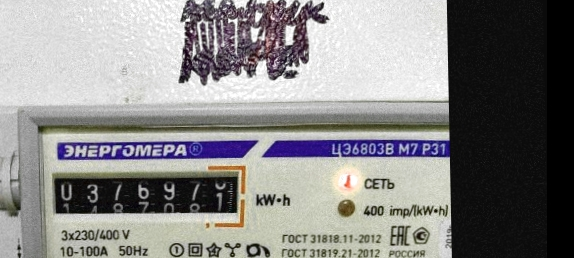0: (57, 179, 73, 201)
1: (213, 190, 225, 212)
3: (84, 181, 98, 204)
6: (136, 178, 149, 199)
7: (110, 177, 123, 202), (187, 178, 200, 201)
9: (161, 178, 174, 201)
screen: (45, 162, 249, 234)
